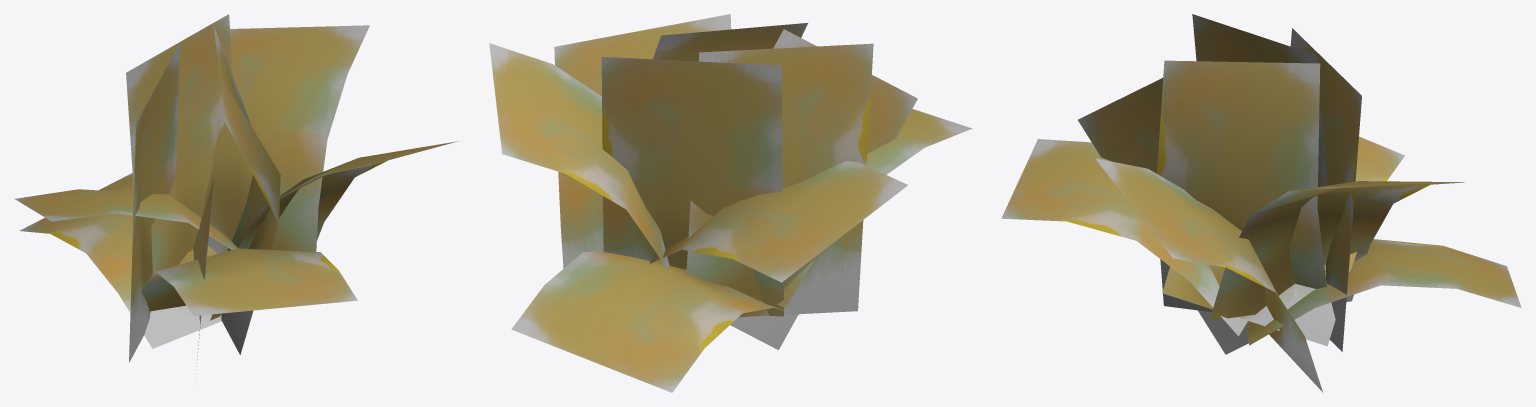
Rendered from bramble_grass.fbx.
3 renders of one model, left to right at view 1: azimuth 30°, elevation 25°; view 2: azimuth 150°, elevation 25°; view 3: azimuth 270°, elevation 25°, orthographic. The views are drawn at different scales.
Parts seen in each view (by area): view 1: pPlane19; view 2: pPlane19; view 3: pPlane19.
Boxes of the visible parts, x1,y1,x2,y2 form: pPlane19: (15,14,458,381); pPlane19: (489,14,972,392); pPlane19: (1001,14,1521,392).
Bounding box in the file's own units: 35 × 28.55 × 41.56.
